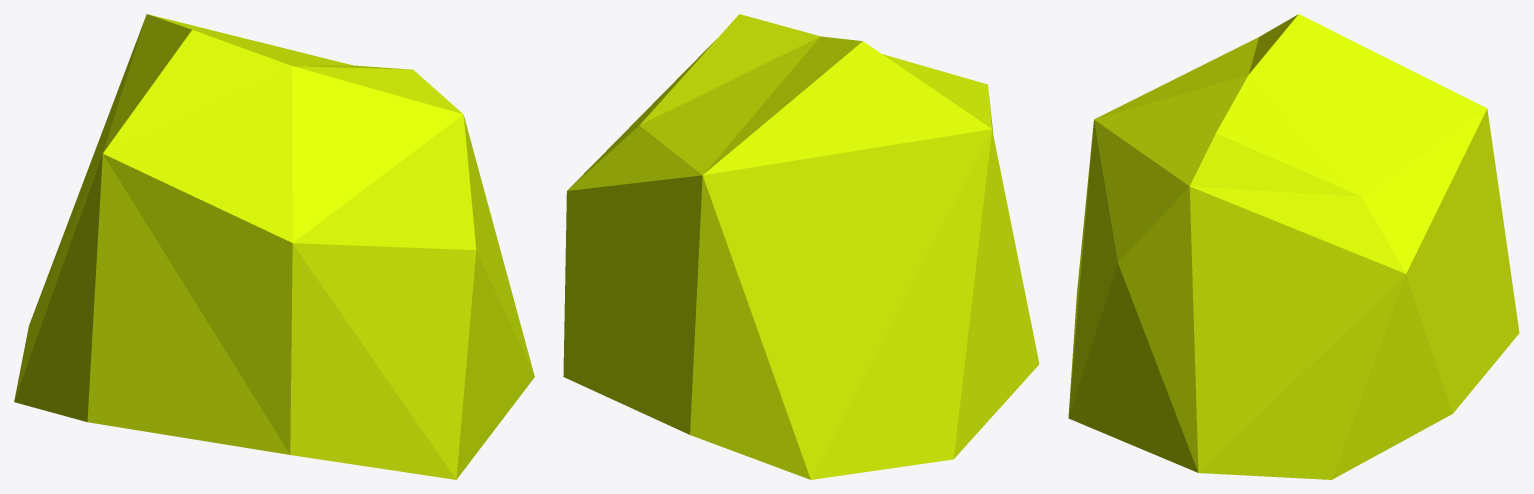
Rendered from caillou moche.fbx.
3 views of the same model, side by side, from view 1: azimuth 30°, elevation 25°; view 2: azimuth 150°, elevation 25°; view 3: azimuth 270°, elevation 25° (orthographic). The views are drawn at different scales.
Parts seen in each view (by area): view 1: Sphere; view 2: Sphere; view 3: Sphere.
Part boxes in pixels (x1=…): Sphere: x1=14, y1=14, x2=534, y2=479; Sphere: x1=563, y1=14, x2=1039, y2=479; Sphere: x1=1068, y1=14, x2=1519, y2=479.
Size of the model in its own units: 195 by 168 by 199.
